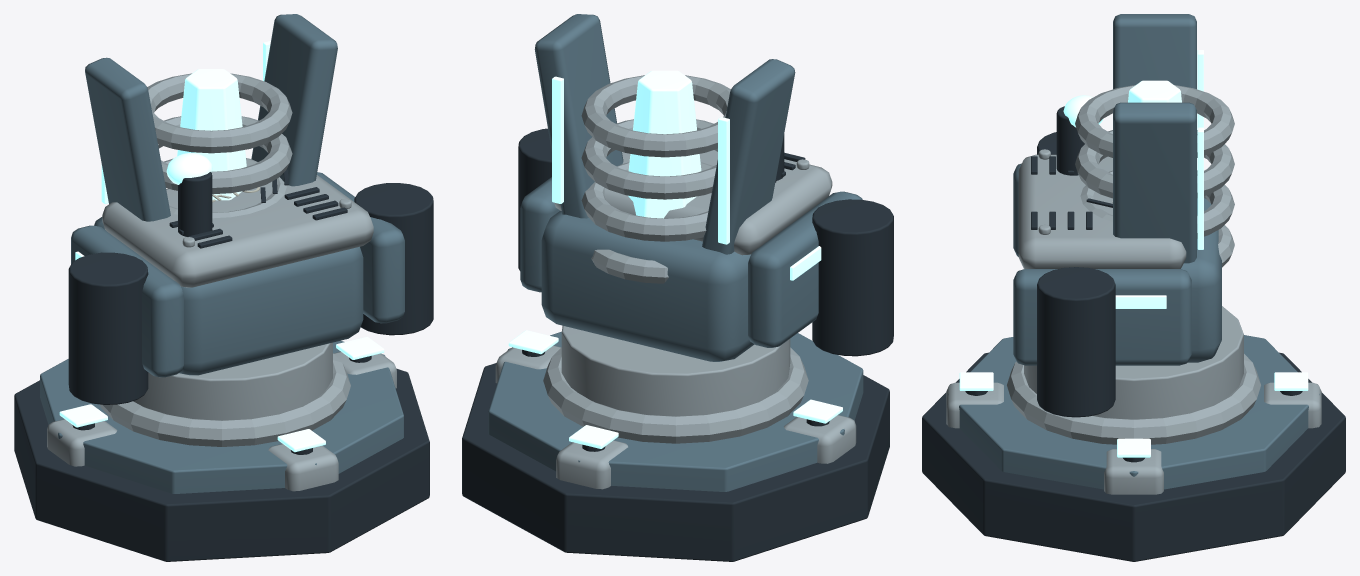
The model's file is 03_cryo_prism.glb.
The picture shows the model from 3 angles, left to right: view 1: azimuth 30°, elevation 25°; view 2: azimuth 150°, elevation 25°; view 3: azimuth 270°, elevation 25°; orthographic projection. The views are drawn at different scales.
Visible parts, largest first — view 1: Armored cradle, Anchor deck, Top carapace, Cooling vent, Bearing, Beveled plinth, Identification strip, Safety flash; view 2: Armored cradle, Anchor deck, Bearing, Top carapace, Beveled plinth, Cooling vent, Identification strip, Safety flash; view 3: Anchor deck, Armored cradle, Bearing, Top carapace, Beveled plinth, Cooling vent, Identification strip, Safety flash.
Boxes of the visible parts, x1,y1,x2,y2 form: Armored cradle: (71, 14, 404, 377); Anchor deck: (14, 356, 429, 561); Top carapace: (102, 73, 373, 287); Cooling vent: (68, 169, 433, 404); Bearing: (47, 342, 396, 491); Beveled plinth: (40, 340, 403, 493); Identification strip: (75, 40, 270, 260); Safety flash: (59, 337, 384, 452); Armored cradle: (520, 14, 862, 361); Anchor deck: (462, 349, 889, 561); Bearing: (495, 326, 856, 489); Top carapace: (554, 75, 832, 283); Beveled plinth: (488, 331, 863, 491); Cooling vent: (518, 128, 893, 356); Identification strip: (552, 70, 821, 280); Safety flash: (508, 330, 842, 448); Anchor deck: (922, 352, 1345, 561); Armored cradle: (1013, 14, 1221, 365); Bearing: (946, 306, 1321, 494); Top carapace: (1018, 85, 1234, 268); Beveled plinth: (948, 335, 1319, 489); Cooling vent: (1031, 106, 1115, 417); Identification strip: (1063, 50, 1203, 308); Safety flash: (959, 372, 1308, 457).
Size of the model in its own units: 1.62 by 1.73 by 1.62.
